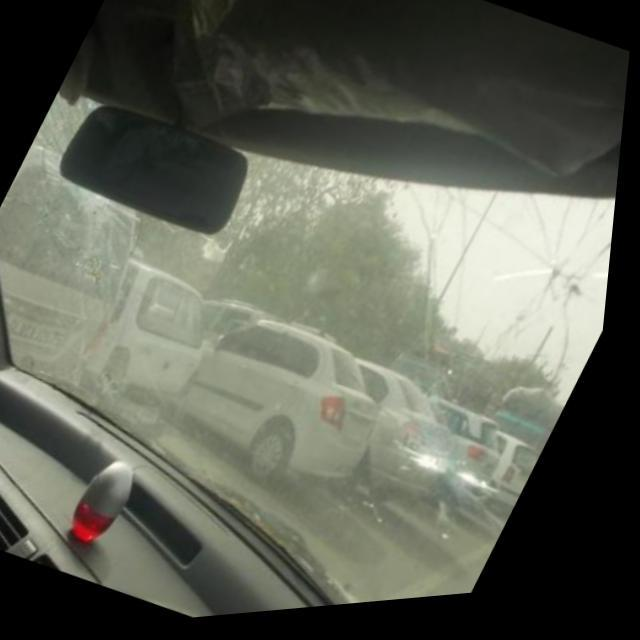glass shatter: (480, 211, 619, 393), (16, 115, 154, 292)
